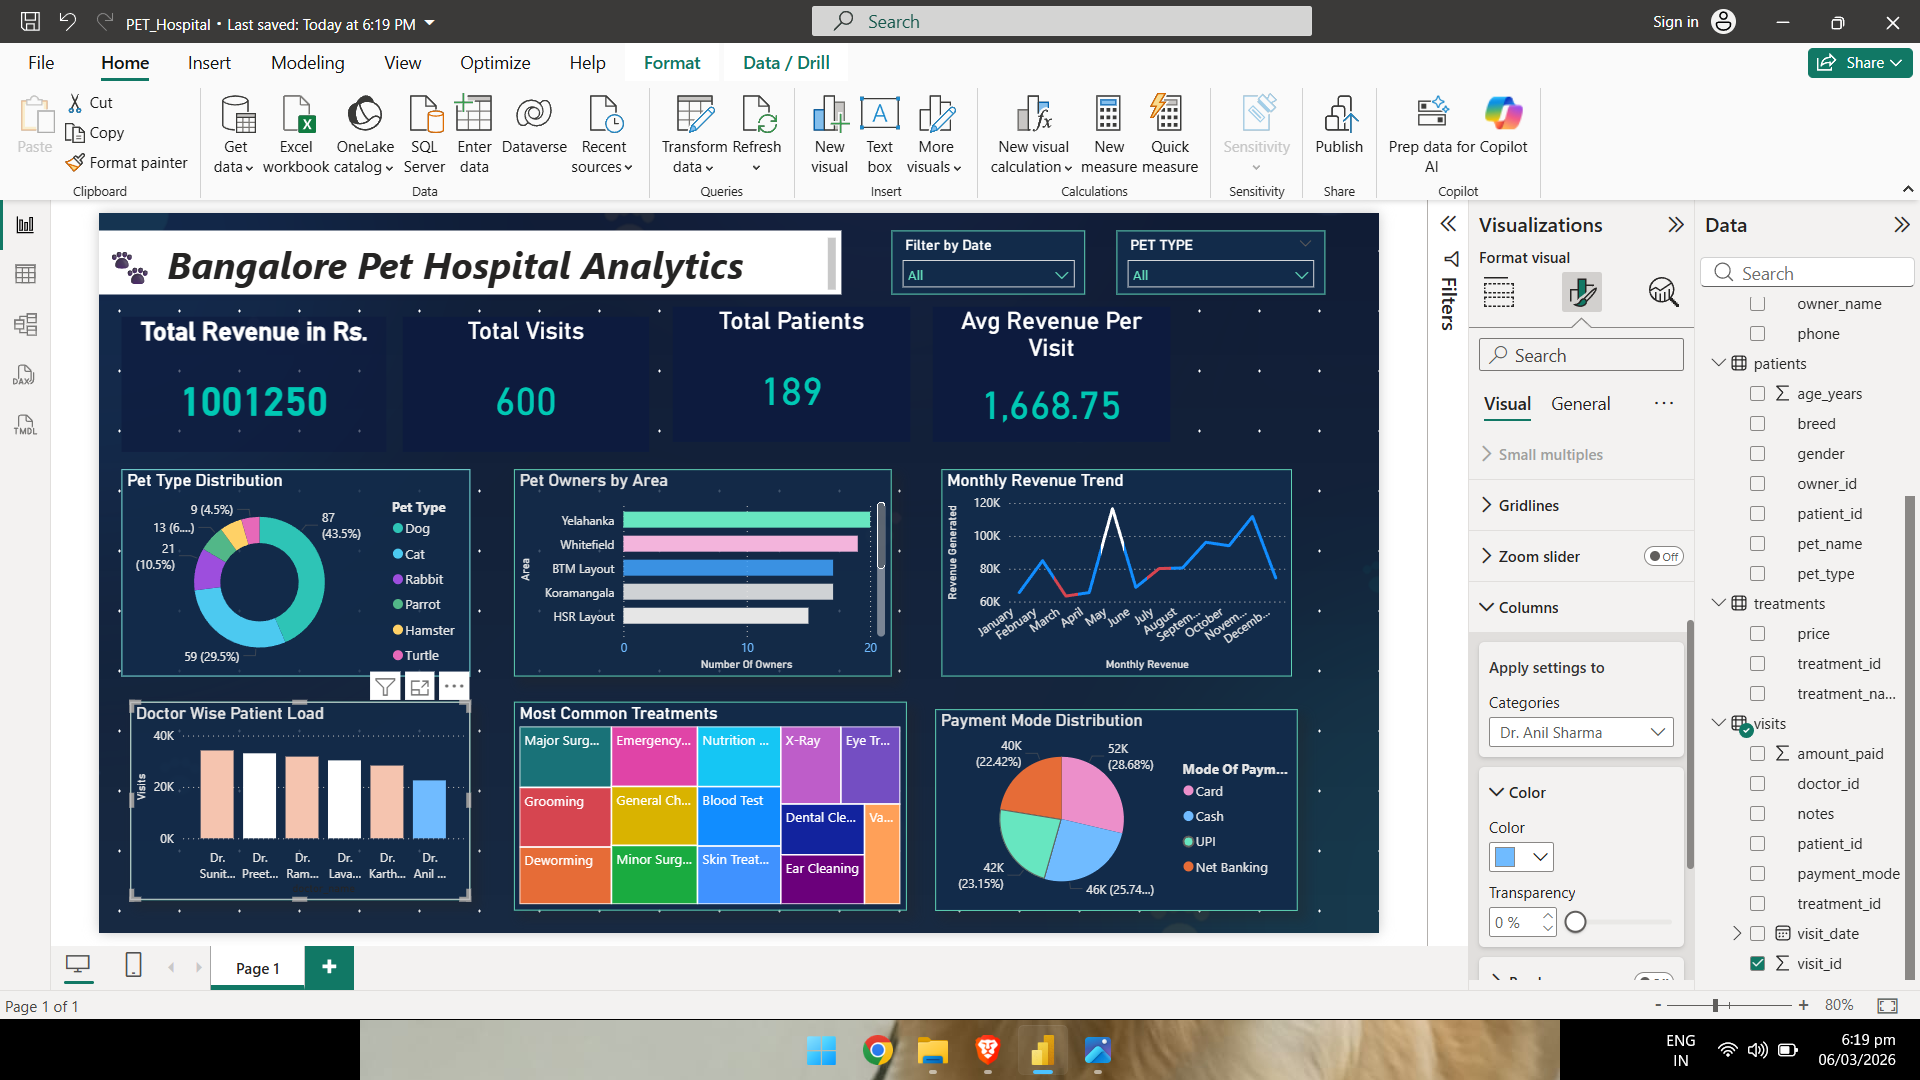

This screenshot's page, from the dashboard's own definition file:
{"tool":"powerbi","page":{"name":"Page 1","canvas":[1280,720],"ordinal":0},"visuals":[{"type":"card","title":"Total Revenue in Rs.","fields":{"Values":["Sum(visits.amount_paid)"]},"box":[22.5,103.8,265,135],"z":0},{"type":"card","title":"Total Visits","fields":{"Values":["CountNonNull(visits.visit_id)"]},"box":[303.8,103.8,246.2,135],"z":1000},{"type":"card","title":"Total Patients ","fields":{"Values":["Count(visits.patient_id)"]},"box":[573.8,93.8,237.5,135],"z":2000},{"type":"textbox","box":[0,18,742,64],"z":3000},{"type":"donutChart","title":"Pet Type Distribution","fields":{"Category":["patients.pet_type"],"Y":["CountNonNull(patients.patient_id)"]},"box":[22.5,256.2,348.8,207.5],"z":3001},{"type":"clusteredBarChart","title":"Pet Owners by Area","fields":{"Category":["owners.area"],"Y":["CountNonNull(owners.owner_id)"]},"box":[415,256.2,377.5,207.5],"z":3002},{"type":"lineChart","title":"Monthly Revenue Trend","fields":{"Category":["visits.visit_date.Variation.Date Hierarchy.Month"],"Y":["Sum(visits.amount_paid)"]},"box":[842.5,256.2,350,207.5],"z":3003},{"type":"slicer","title":"PET TYPE","fields":{"Values":["patients.pet_type"]},"box":[1017.5,17.5,208.8,63.8],"z":3005},{"type":"treemap","title":"Most Common Treatments ","fields":{"Group":["treatments.treatment_name"],"Values":["Sum(visits.visit_id)"]},"box":[415,488.8,392.5,208.8],"z":3006},{"type":"card","title":"Avg Revenue Per Visit","fields":{"Values":["doctors.Avg Revenue per Visit"]},"box":[833.8,93.8,237.5,135],"z":3007},{"type":"slicer","title":"PET TYPE","fields":{"Values":["visits.visit_date.Variation.Date Hierarchy.Quarter","visits.visit_date.Variation.Date Hierarchy.Month","visits.visit_date.Variation.Date Hierarchy.Day"]},"box":[792.5,17.5,193.8,63.8],"z":3008},{"type":"pieChart","title":"Payment Mode Distribution","fields":{"Category":["visits.payment_mode"],"Y":["Sum(visits.visit_id)"]},"box":[836.2,496.2,362.5,201.2],"z":3009},{"type":"clusteredColumnChart","title":"Doctor Wise Patient Load","fields":{"Category":["doctors.doctor_name"],"Y":["Sum(visits.visit_id)"]},"box":[31.2,488.8,340,198.8],"z":3010}]}

Visuals, with their boxes on the page's 1280x720 design canvas (x1, y1, x2, y2). These are canvas units, not pixel positions in the 1920x1080 screenshot, which may show the page scaled, cropped or inside an application window:
"Total Revenue in Rs." card: 22/104/288/239
"Total Visits" card: 304/104/550/239
"Total Patients " card: 574/94/811/229
textbox: 0/18/742/82
"Pet Type Distribution" donutChart: 22/256/371/464
"Pet Owners by Area" clusteredBarChart: 415/256/792/464
"Monthly Revenue Trend" lineChart: 842/256/1192/464
"PET TYPE" slicer: 1018/18/1226/81
"Most Common Treatments " treemap: 415/489/808/698
"Avg Revenue Per Visit" card: 834/94/1071/229
"PET TYPE" slicer: 792/18/986/81
"Payment Mode Distribution" pieChart: 836/496/1199/697
"Doctor Wise Patient Load" clusteredColumnChart: 31/489/371/688
